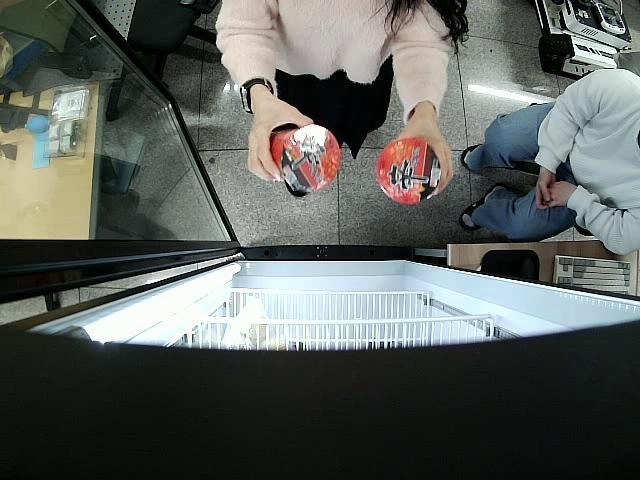02_shinRamen_S: (269, 124, 340, 194), (378, 137, 442, 204)
